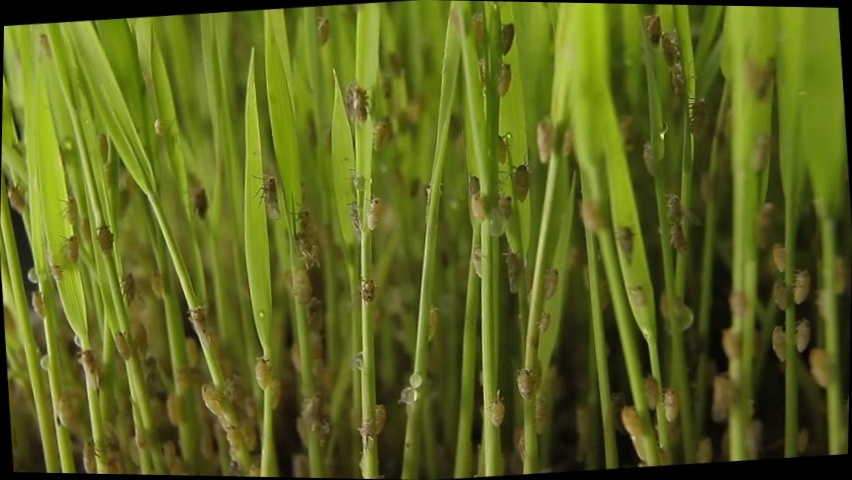Brown_hopper: (192, 377, 238, 433), (253, 173, 289, 224), (176, 302, 225, 339), (659, 196, 691, 251), (87, 216, 121, 259), (660, 386, 691, 428), (74, 343, 100, 389), (788, 264, 811, 316), (490, 62, 520, 101), (344, 84, 373, 122), (492, 18, 519, 58), (187, 182, 213, 223), (352, 275, 383, 308), (640, 12, 665, 44), (514, 165, 535, 203), (112, 321, 129, 366), (252, 357, 271, 392), (365, 196, 381, 236), (48, 262, 68, 287)
